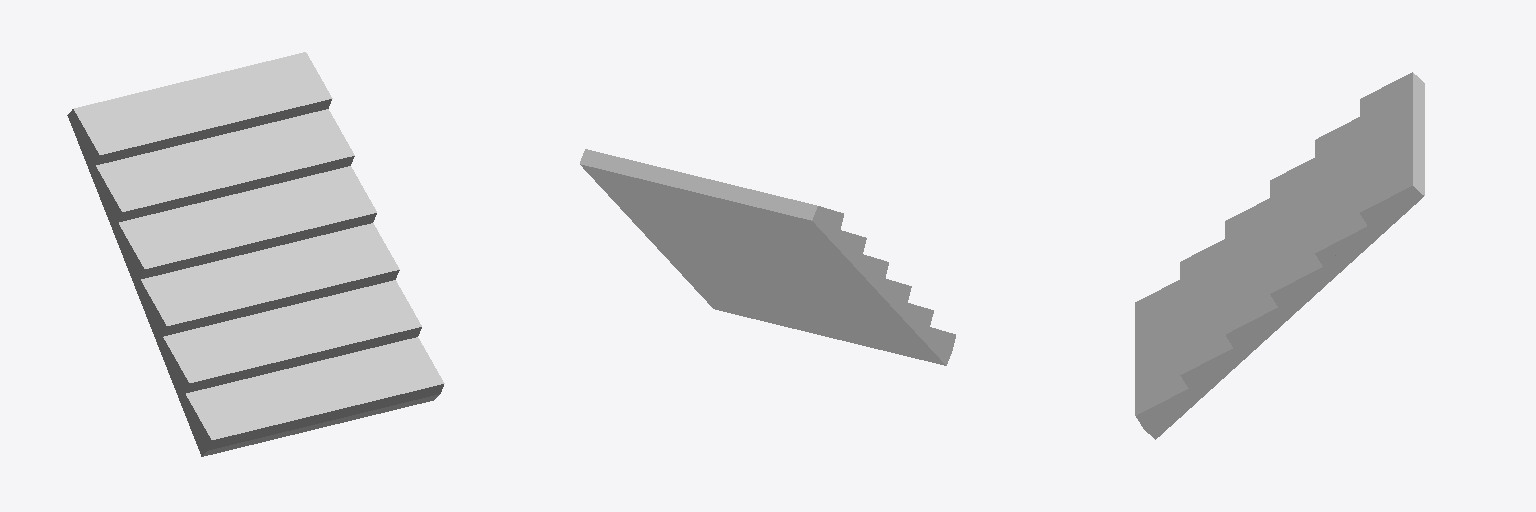
The model's file is roof.obj.
The picture shows the model from 3 angles: view 1: azimuth 30°, elevation 25°; view 2: azimuth 150°, elevation 25°; view 3: azimuth 270°, elevation 25°; orthographic projection.
Visible parts, largest first — view 1: shingles, board; view 2: board, shingles; view 3: shingles, board.
Part boxes in pixels (x1,y1,x2,y2): shingles: (74,52,444,450); board: (67,109,439,456); board: (580,149,951,365); shingles: (819,206,955,350); shingles: (1135,72,1412,428); board: (1144,73,1424,439).
Bounding box in the file's own units: 1 × 1.04 × 1.08.